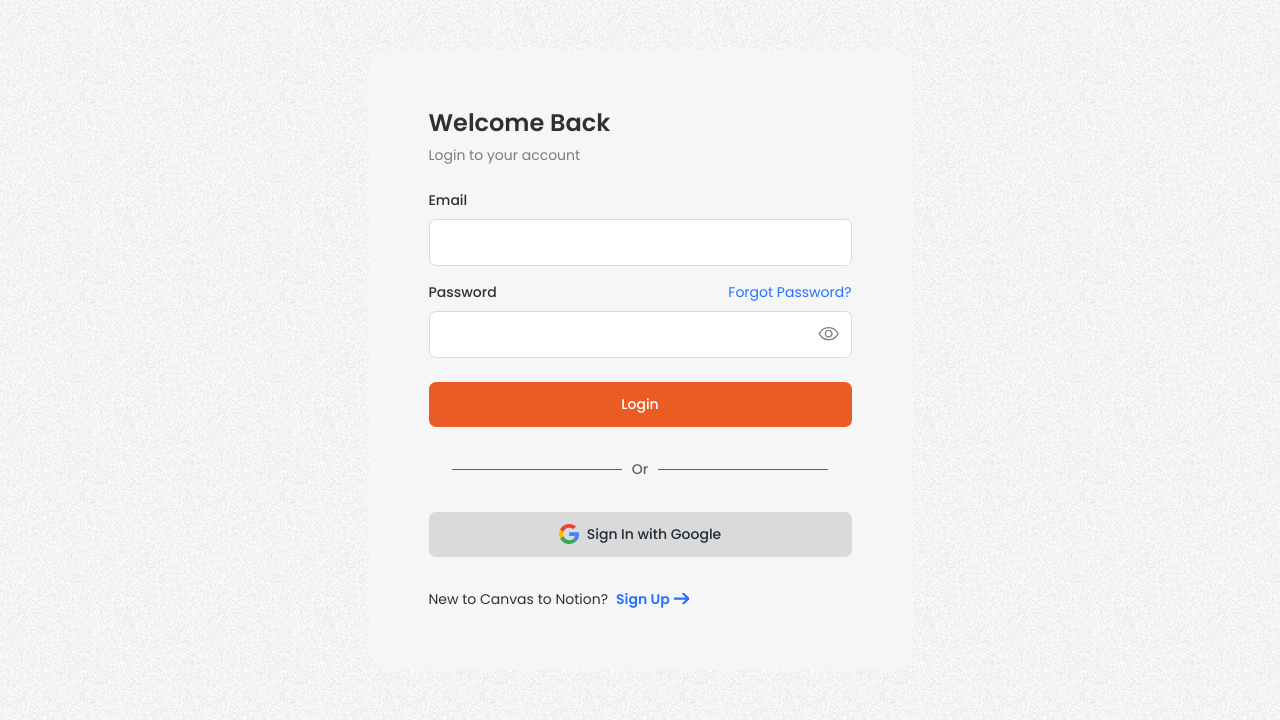
Scenario: Login Component › handles login errors with specific error message
// Fill out form
Type "test@example.com" into the field labelled "Email" at (640, 242), box [428,219,852,266]
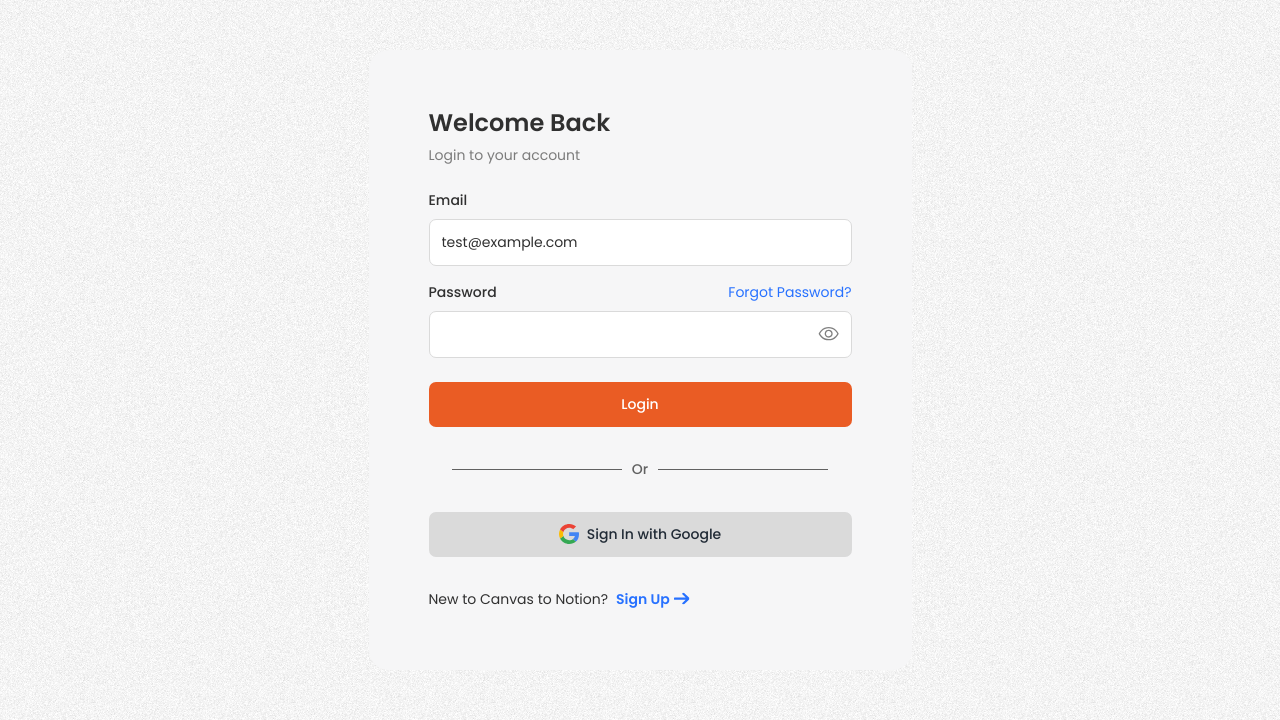
Type "wrongpassword" into the password field named "password" at (640, 334), box [428,311,852,358]
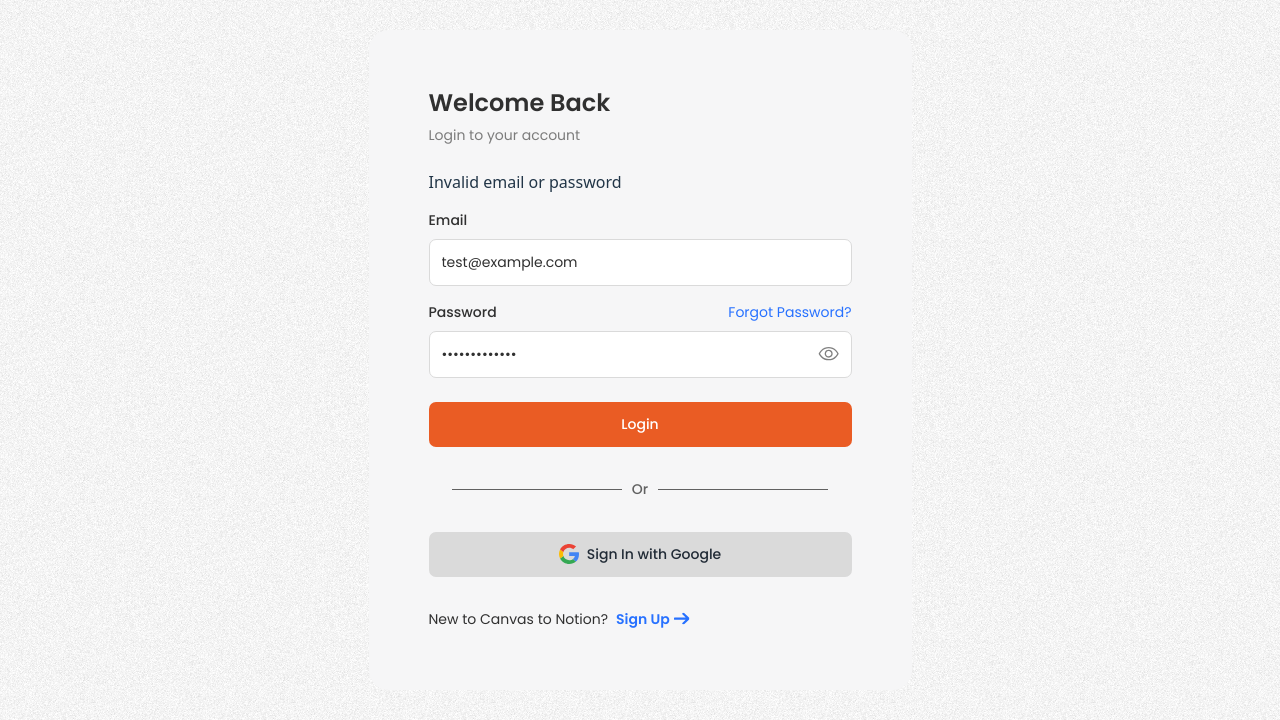
Expected: the text "Invalid email or password" is shown, [428,171,622,193]
